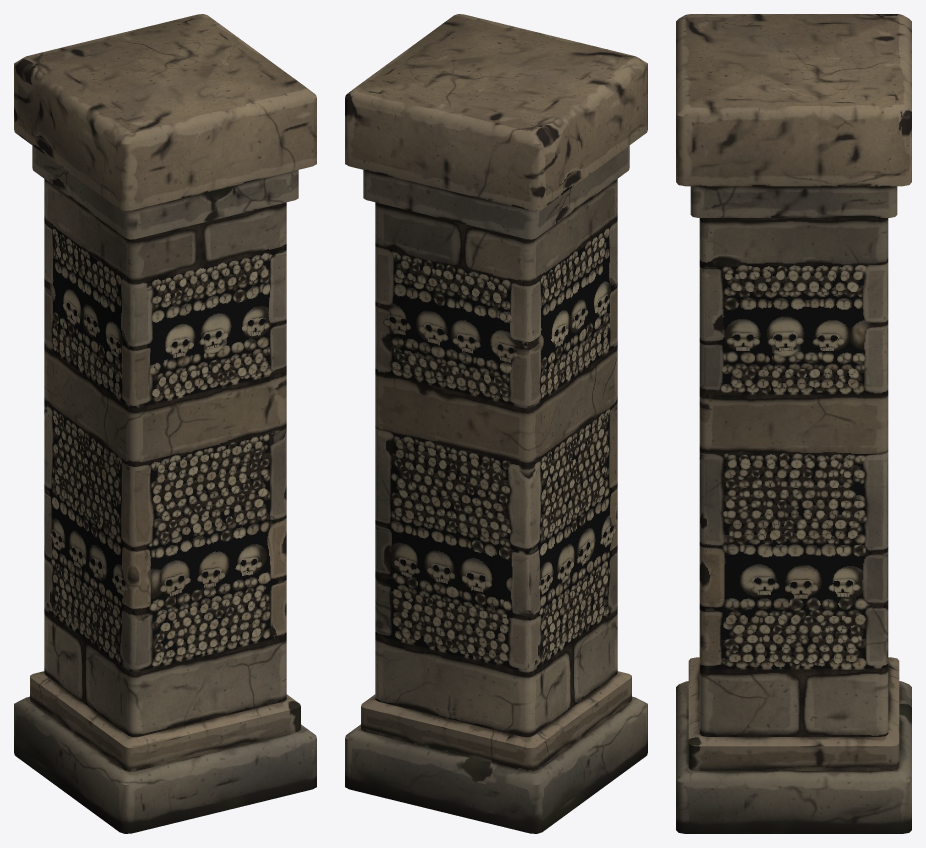
The model's file is catacomb_pillar.glb.
The picture shows the model from 3 angles, left to right: view 1: azimuth 30°, elevation 25°; view 2: azimuth 150°, elevation 25°; view 3: azimuth 270°, elevation 25°; orthographic projection. The views are drawn at different scales.
Visible parts, largest first — view 1: catacomb_pillar; view 2: catacomb_pillar; view 3: catacomb_pillar.
Part boxes in pixels (x1,y1,x2,y2): catacomb_pillar: [14, 14, 316, 833]; catacomb_pillar: [345, 14, 647, 833]; catacomb_pillar: [676, 14, 911, 833].
Bounding box in the file's own units: 1.3 × 4.4 × 1.3.
1 material, 1 textured.
